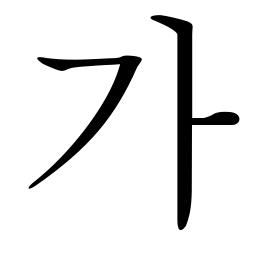Gaji: (160, 100, 216, 150)
